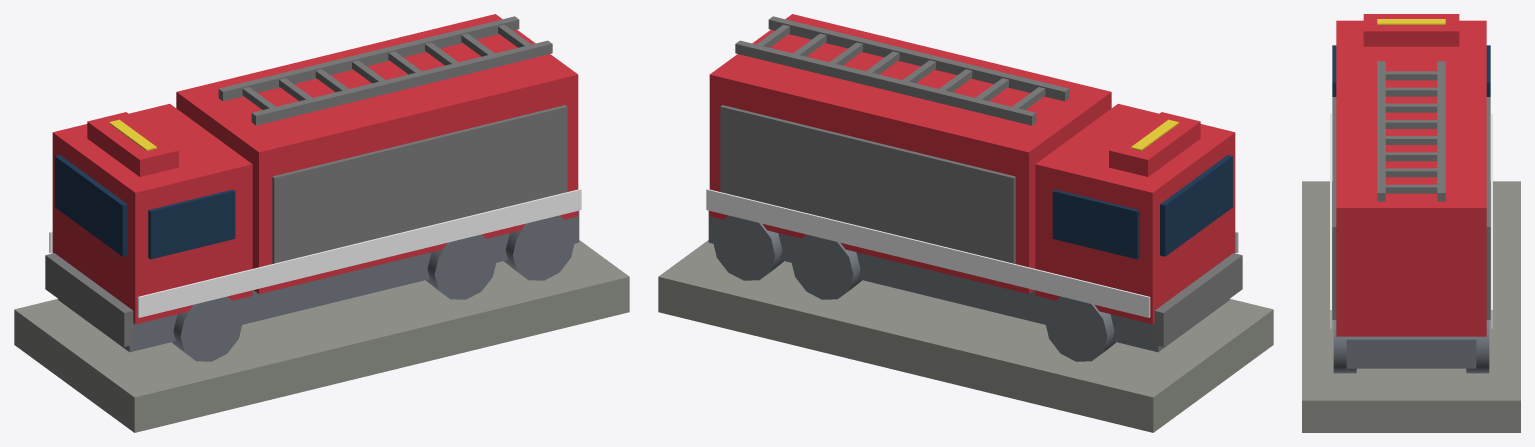
File: mashup-truck-mid-prebuilt.fbx
3 renders of one model, left to right at view 1: azimuth 30°, elevation 25°; view 2: azimuth 150°, elevation 25°; view 3: azimuth 270°, elevation 25°, orthographic. The views are drawn at different scales.
Parts seen in each view (by area): view 1: a1052.Truck; view 2: a1052.Truck; view 3: a1052.Truck.
Part boxes in pixels (<box>): a1052.Truck: <box>14,14,629,432</box>; a1052.Truck: <box>658,14,1273,432</box>; a1052.Truck: <box>1302,14,1520,432</box>.
Bounding box in the file's own units: 7.6 × 3.62 × 3.2.
